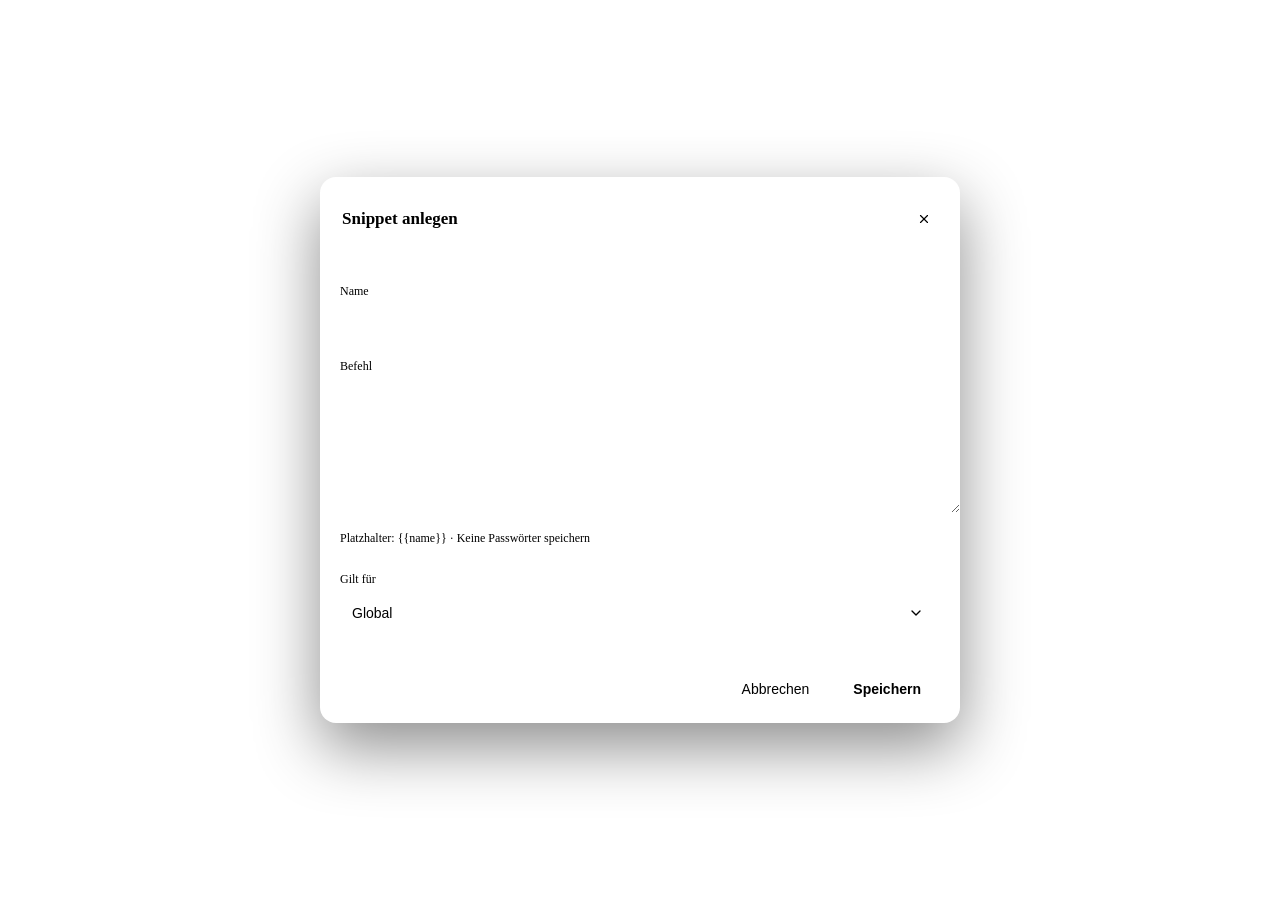
Test case: SnippetEditor › keeps the dialog open when the core rejects the snippet
Step 1. Type "x" into the field labelled "Name" → (650, 325), box [340,305,960,345]
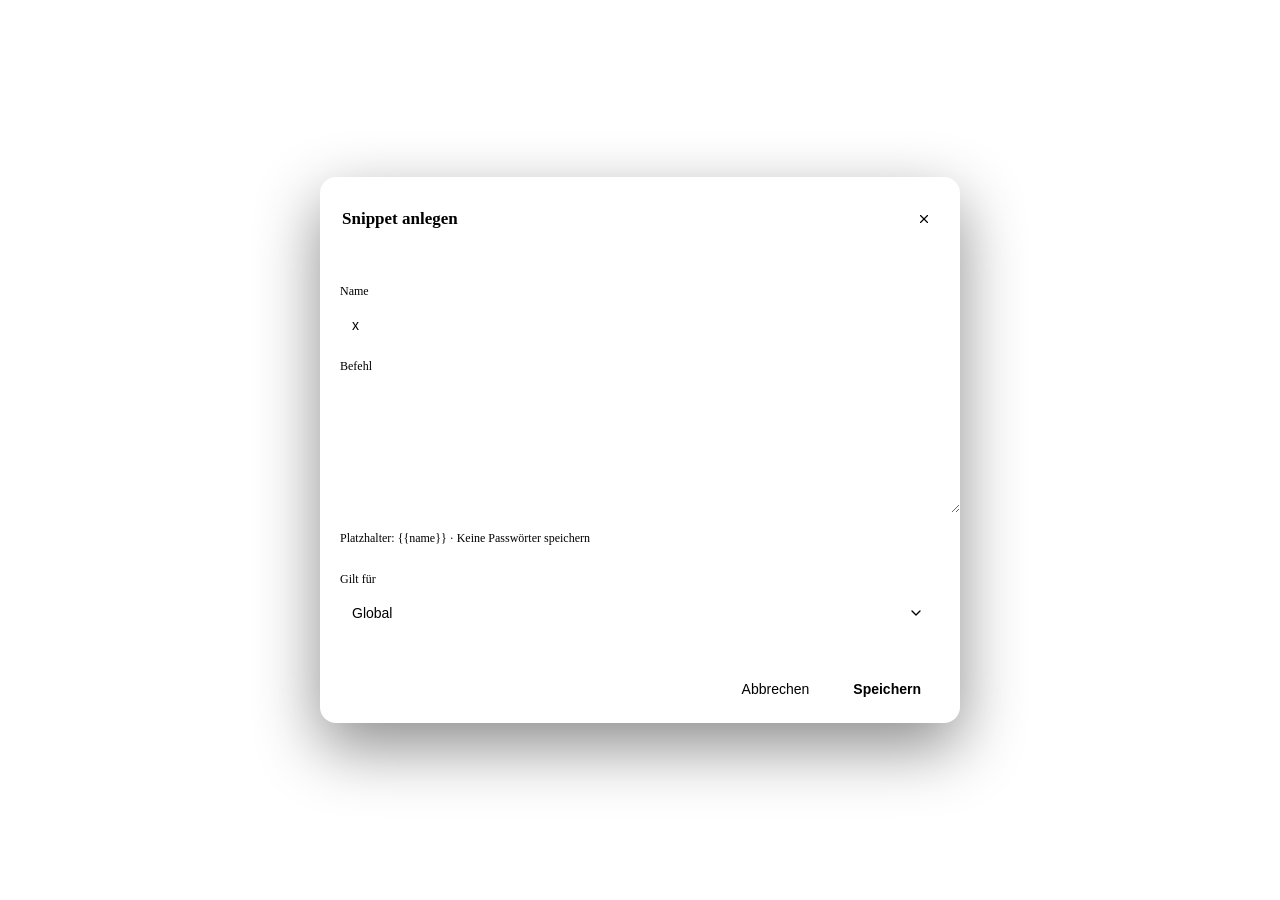
Step 2. Type "ls" into the text box labelled "Befehl" → (650, 446), box [340,380,960,513]
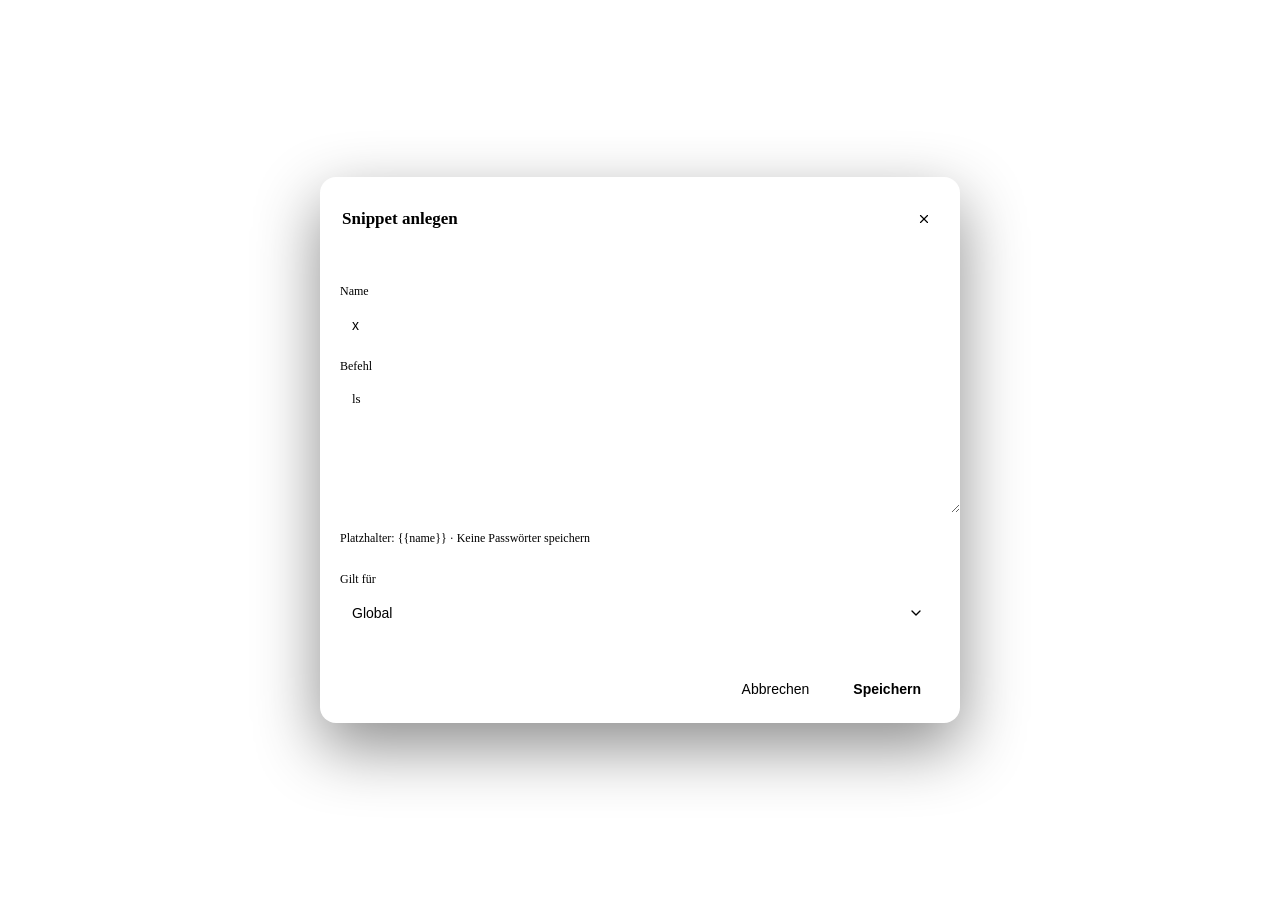
Step 3. Click the button "Speichern" → click(887, 689), box [836,669,938,709]
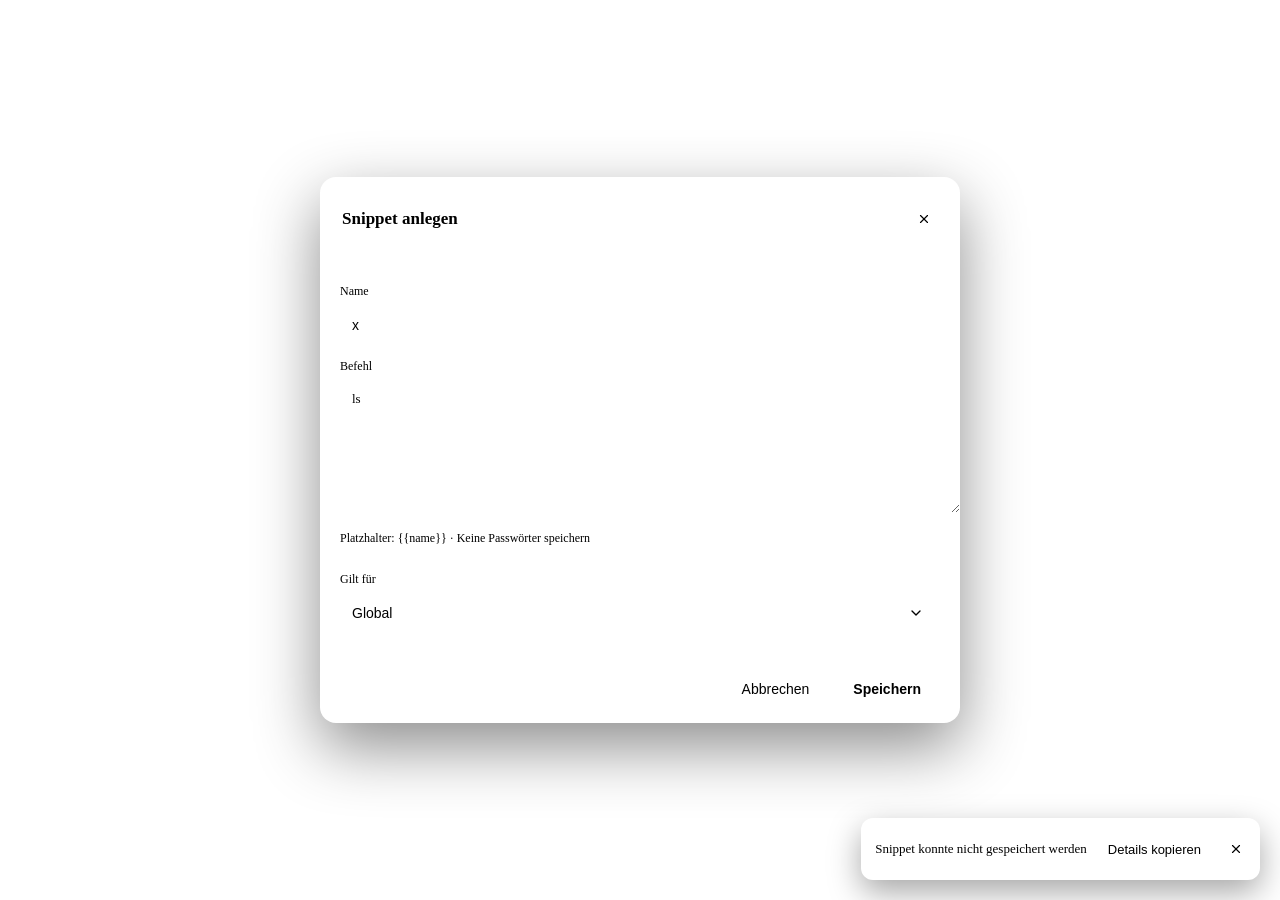
Check: the text "Snippet konnte nicht gespeichert werden" is shown, box [875,841,1087,857]
